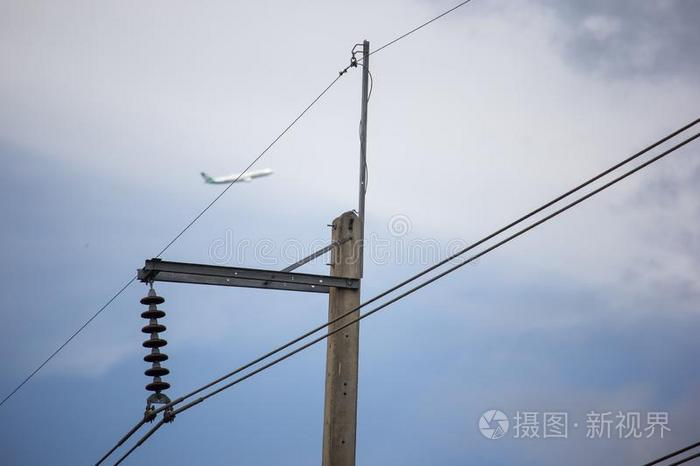insulator: (137, 293, 174, 393)
